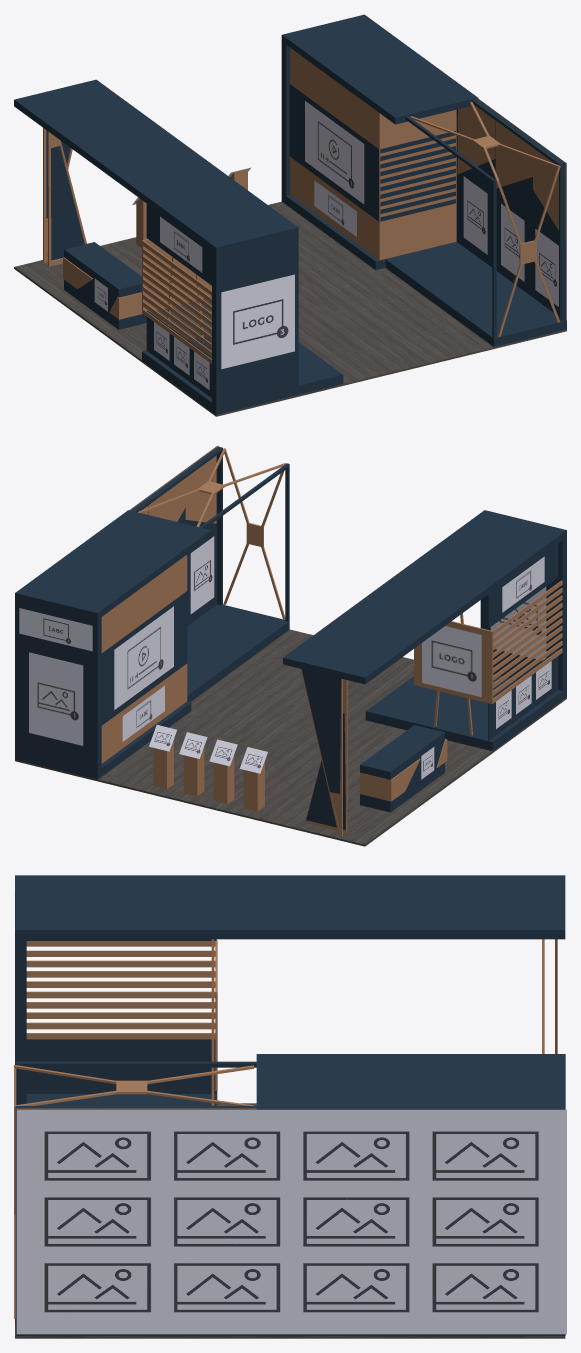
File: stant31.gltf
3 renders of one model, top to bottom at view 1: azimuth 30°, elevation 25°; view 2: azimuth 150°, elevation 25°; view 3: azimuth 270°, elevation 25°, orthographic. The views are drawn at different scales.
Parts seen in each view (by area): view 1: modrenk2, modrenk1, modahsap, modlogo3, modvideo1, moddikgorsel2, moddikgorsel4, moddikgorsel3, modyazi1, modyazi2; view 2: modrenk2, modahsap, modrenk1, moddikgorsel1, modvideo1, modlogo1, modyazi3, moddikgorsel4, moddikgorsel5, modyazi1, modyazi2, modgorsel4 (+3 smaller); view 3: modgenisgorsel, modrenk2, modrenk1, modahsap.
Boxes of the visible parts, x1,y1,x2,y2 form: modrenk2: (14,14,566,414); modrenk1: (43,48,565,363); modahsap: (14,201,566,416); modlogo3: (221,274,294,369); modvideo1: (305,101,364,204); moddikgorsel2: (463,176,487,254); moddikgorsel4: (535,229,558,306); moddikgorsel3: (501,203,524,281); modyazi1: (314,180,356,236); modyazi2: (160,216,202,272); modrenk2: (15,446,566,829); modahsap: (15,629,566,846); modrenk1: (101,445,562,836); moddikgorsel1: (29,652,83,745); modvideo1: (114,606,173,709); modlogo1: (422,626,481,697); modyazi3: (19,608,92,651); moddikgorsel4: (190,536,214,613); moddikgorsel5: (490,586,546,660); modyazi1: (122,686,164,741); modyazi2: (502,556,544,612); modgorsel4: (239,747,267,773); modgenisgorsel: (16,1109,566,1334); modrenk2: (15,875,565,1335); modrenk1: (14,939,557,1318); modahsap: (15,1103,565,1338).
Size of what is drawn, in the model's own units: 1 by 0.4623 by 1.
23 materials, 21 textured.
